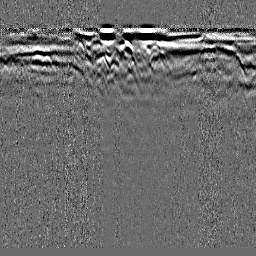cavity: (119, 39, 133, 56)
